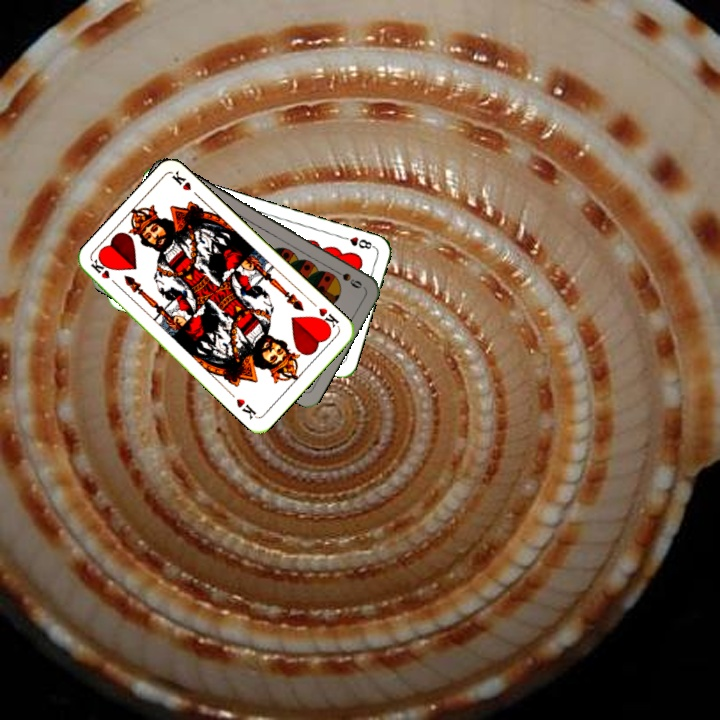H8: (337, 232, 377, 252)
HK: (87, 255, 122, 290), (313, 304, 342, 333)
S9: (328, 265, 365, 291)
